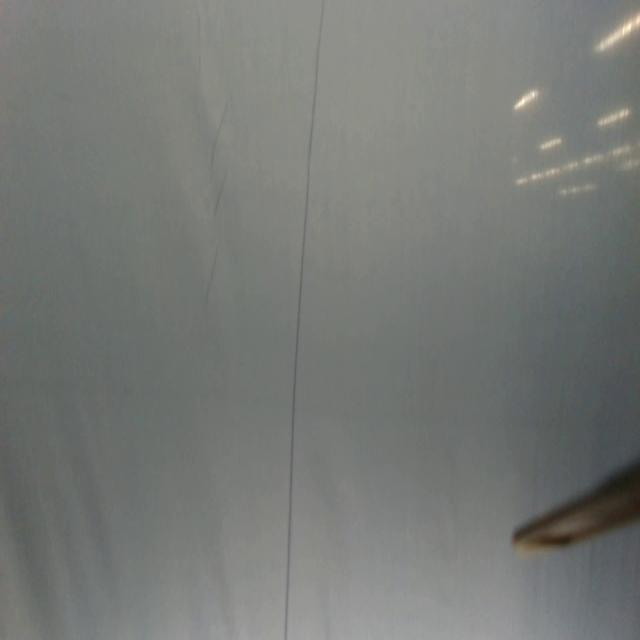crease: (282, 1, 328, 640), (210, 97, 230, 165), (203, 243, 220, 314), (210, 168, 230, 218)
